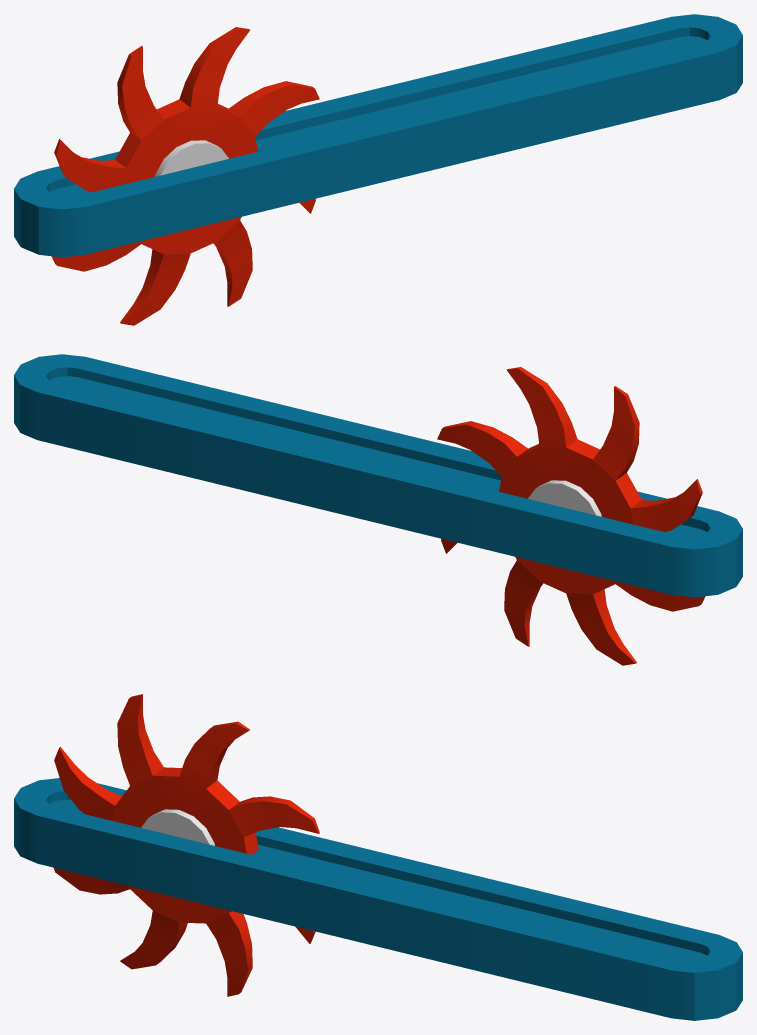
The model's file is Obs_10.fbx.
3 renders of one model, top to bottom at view 1: azimuth 30°, elevation 25°; view 2: azimuth 150°, elevation 25°; view 3: azimuth 330°, elevation 25°, orthographic.
Visible parts, largest first — view 1: Obs_10; view 2: Obs_10; view 3: Obs_10.
Boxes of the visible parts, x1,y1,x2,y2 form: Obs_10: (14,14,742,325); Obs_10: (14,354,742,665); Obs_10: (14,694,742,1020).
Size of the model in its own units: 2.78 by 1.04 by 0.3252.
